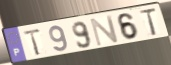6: (116, 11, 140, 41)
9: (47, 24, 70, 54), (71, 20, 93, 49)
N: (89, 14, 121, 48)
T: (138, 6, 159, 37), (22, 27, 42, 57)
